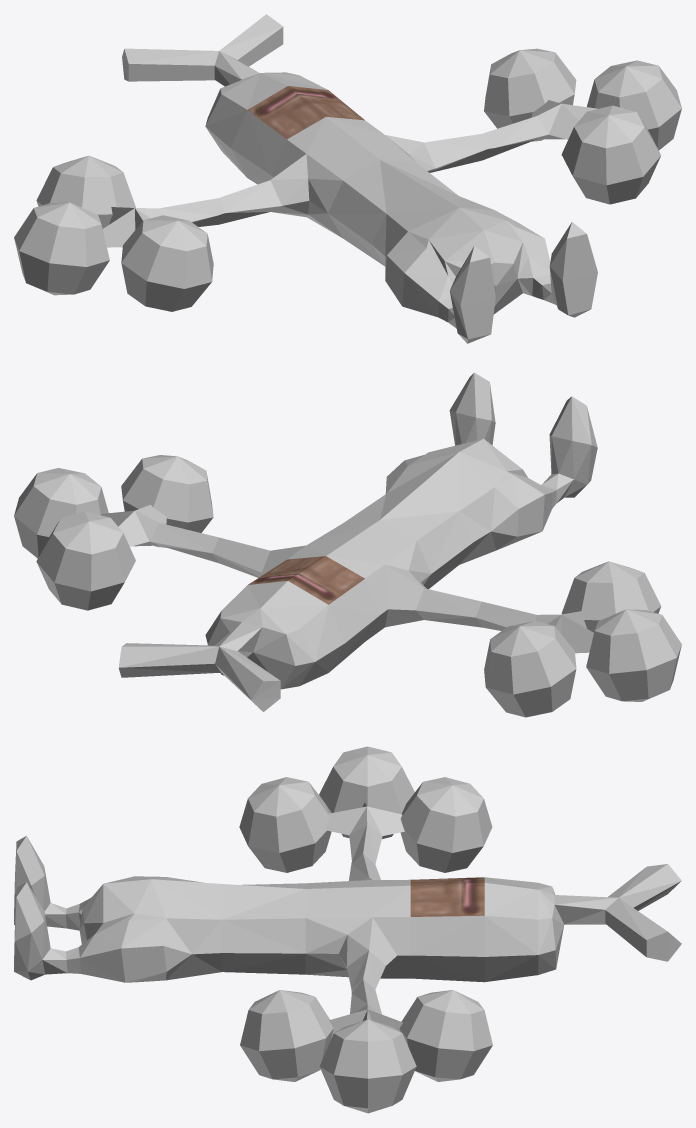
The model's file is BR_Sudowoodo.obj.
3 views of the same model, one above another, from view 1: azimuth 30°, elevation 25°; view 2: azimuth 150°, elevation 25°; view 3: azimuth 270°, elevation 25° (orthographic). The views are drawn at different scales.
Visible parts, largest first — view 1: usokkie; view 2: usokkie; view 3: usokkie.
Part boxes in pixels (left/top/right/bottom): usokkie: left=14, top=14, right=681, bottom=343; usokkie: left=14, top=372, right=681, bottom=717; usokkie: left=14, top=746, right=681, bottom=1113.
Size of the model in its own units: 13.42 by 2.38 by 12.12.
